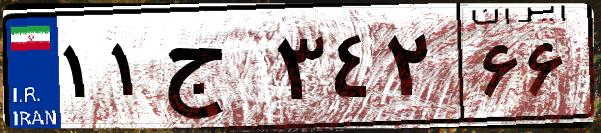1: (57, 26, 110, 100), (110, 28, 158, 98)
2: (385, 28, 445, 110)
3: (270, 28, 330, 110)
4: (330, 28, 385, 110)
6: (475, 38, 525, 113), (525, 38, 570, 115)
ج: (158, 20, 270, 120)
